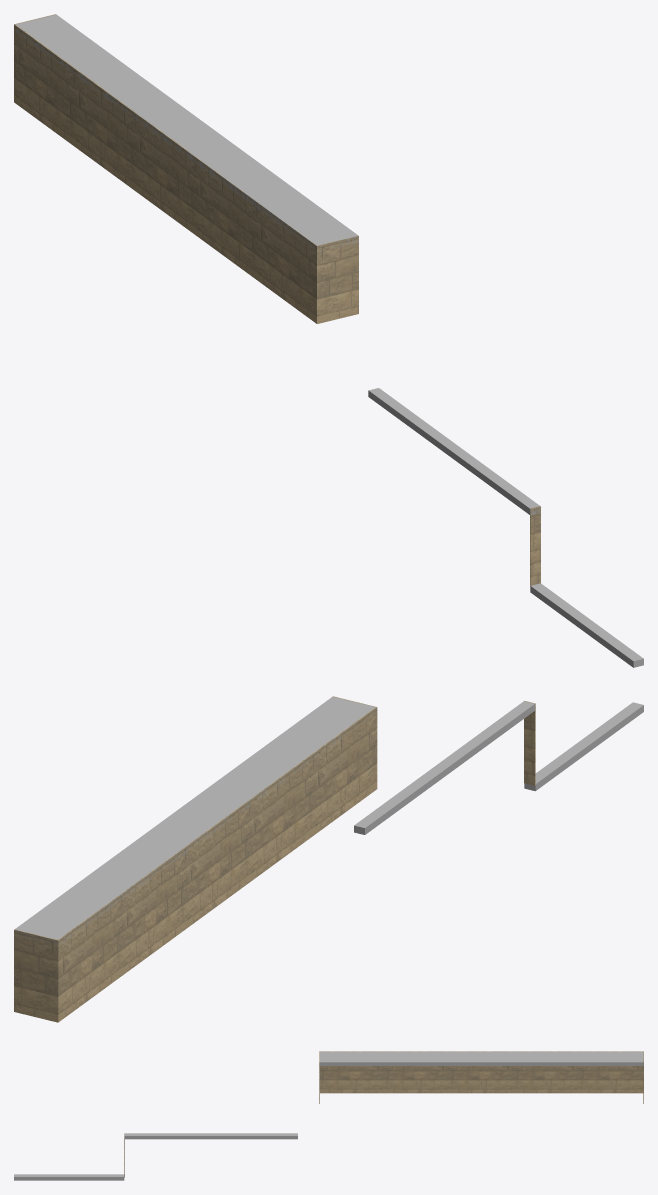
File: roof-bundle-tea-terrace.glb
3 renders of one model, top to bottom at view 1: azimuth 30°, elevation 25°; view 2: azimuth 150°, elevation 25°; view 3: azimuth 270°, elevation 25°, orthographic. The views are drawn at different scales.
Visible parts, largest first — view 1: bz06_dressed_sandstone-cast, ph_bz04_stone_trim_sandstone-cast; view 2: bz06_dressed_sandstone-cast, ph_bz04_stone_trim_sandstone-cast; view 3: bz06_dressed_sandstone-cast, ph_bz04_stone_trim_sandstone-cast.
Part boxes in pixels (<box>): bz06_dressed_sandstone-cast: <box>14,14,540,586</box>; ph_bz04_stone_trim_sandstone-cast: <box>15,14,643,667</box>; bz06_dressed_sandstone-cast: <box>14,696,535,1022</box>; ph_bz04_stone_trim_sandstone-cast: <box>14,697,643,947</box>; bz06_dressed_sandstone-cast: <box>124,1051,643,1177</box>; ph_bz04_stone_trim_sandstone-cast: <box>14,1051,643,1180</box>.
Size of the model in its own units: 0.8 by 4.02 by 19.4.
2 materials, 1 textured.
